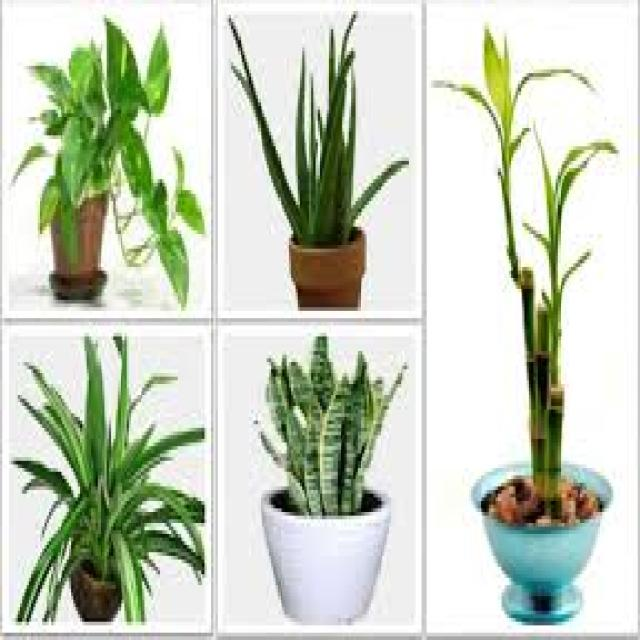organic: (456, 53, 590, 493), (33, 31, 166, 295)
